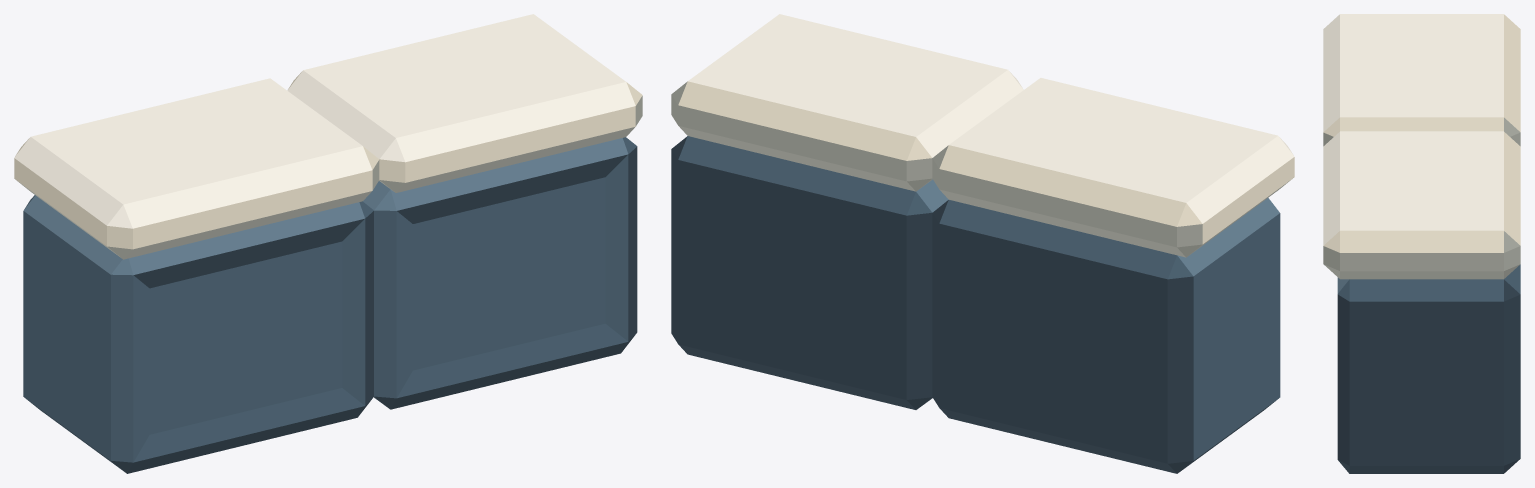
The model's file is Terrain_TopRun2L.gltf.
3 renders of one model, left to right at view 1: azimuth 30°, elevation 25°; view 2: azimuth 150°, elevation 25°; view 3: azimuth 270°, elevation 25°, orthographic. The views are drawn at different scales.
Parts seen in each view (by area): view 1: Terrain_TopRun2L_baked; view 2: Terrain_TopRun2L_baked; view 3: Terrain_TopRun2L_baked.
Boxes of the visible parts, x1,y1,x2,y2 form: Terrain_TopRun2L_baked: (14,14,642,473); Terrain_TopRun2L_baked: (671,14,1294,473); Terrain_TopRun2L_baked: (1323,14,1520,473).
Size of the model in its own units: 2.03 by 1 by 0.735.
